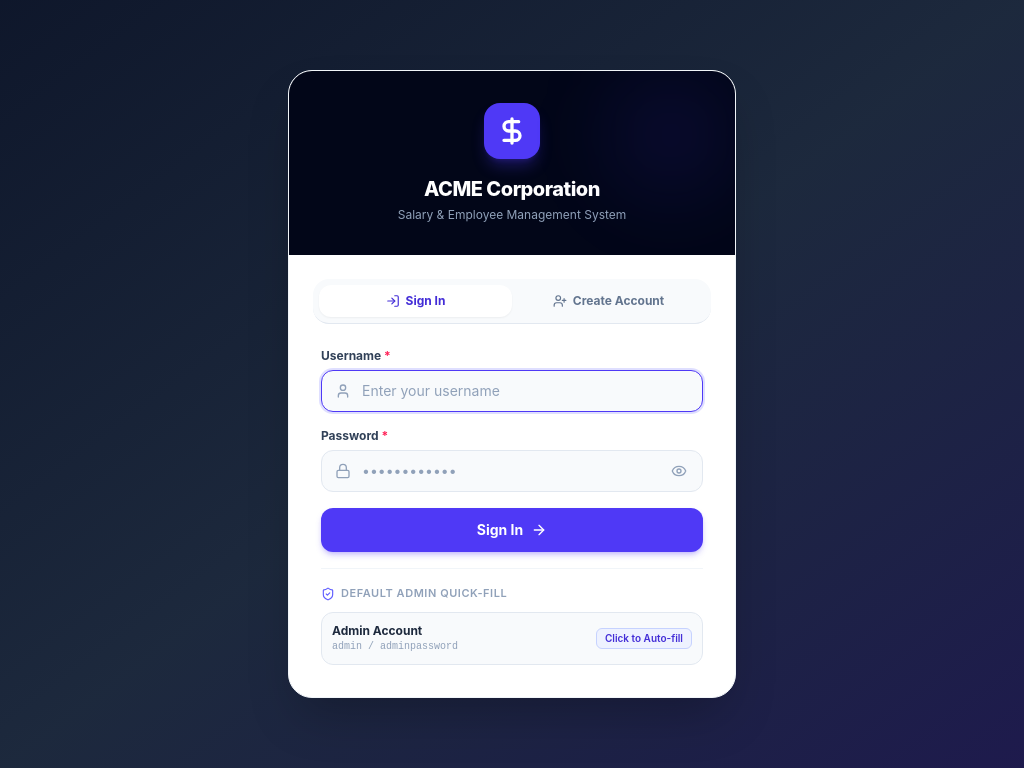
LoginPage Component & Edge Cases › should reject sign up when password is less than 6 characters
Click the button with test id "signup-tab": (608, 301) [512,285,705,317]
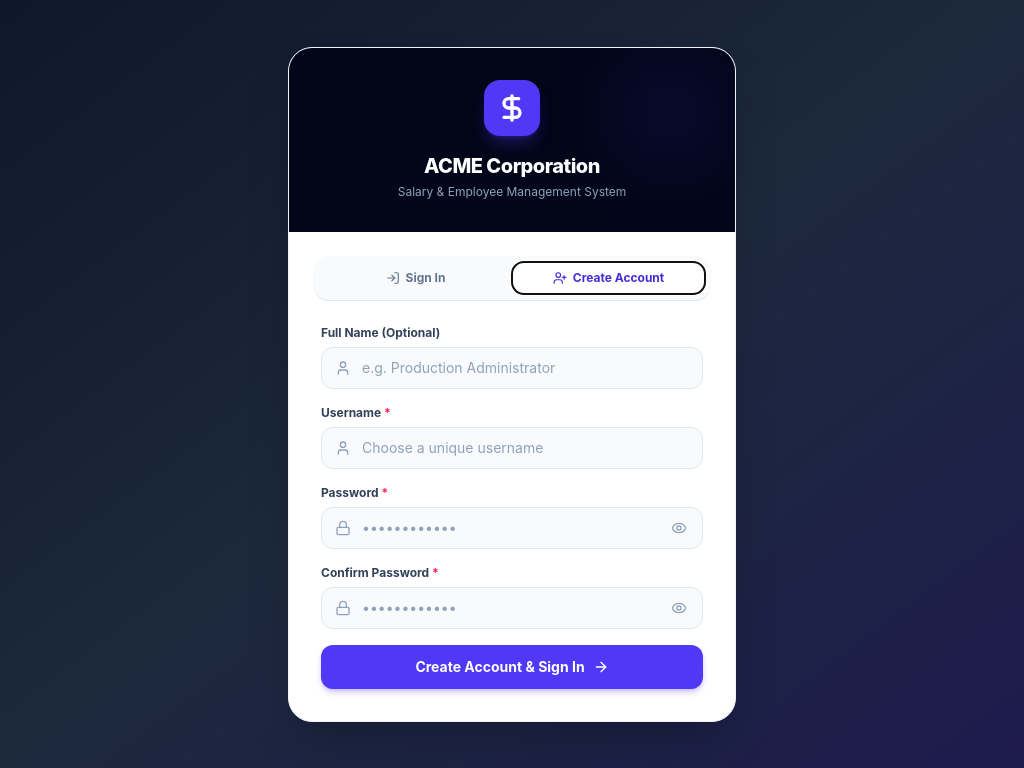
In the field with placeholder "Choose a unique username": (512, 448) [321,426,703,468], type "shortuser"
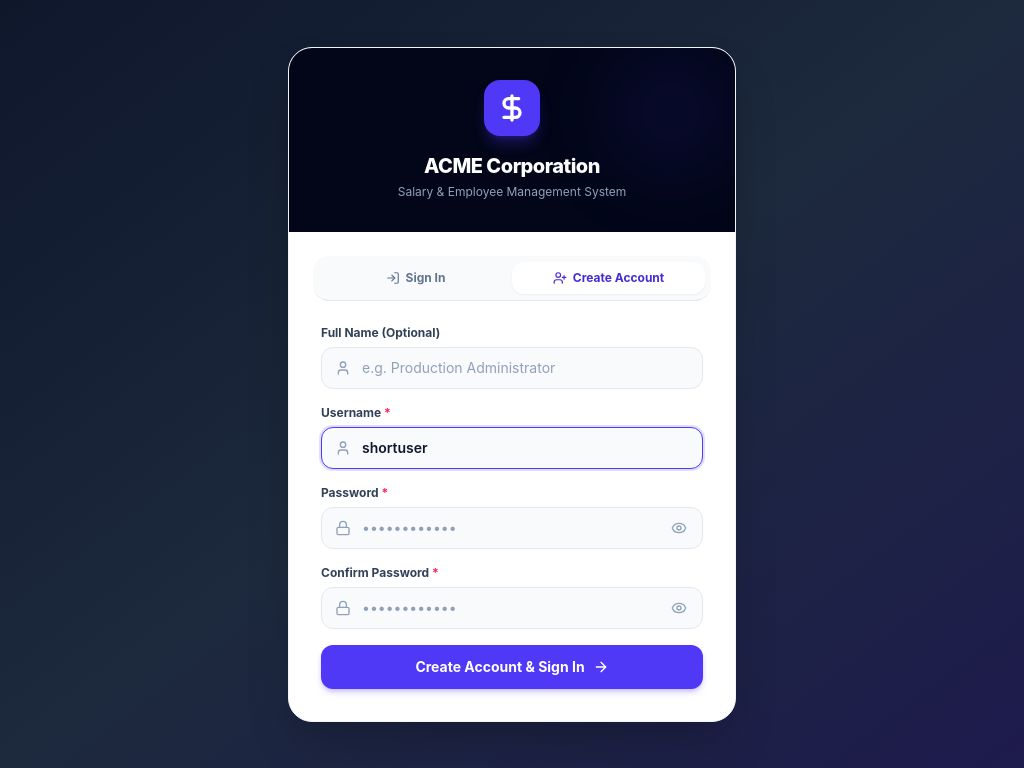
In the 1st password field with placeholder "••••••••••••": (512, 528) [321,506,703,548], type "123"
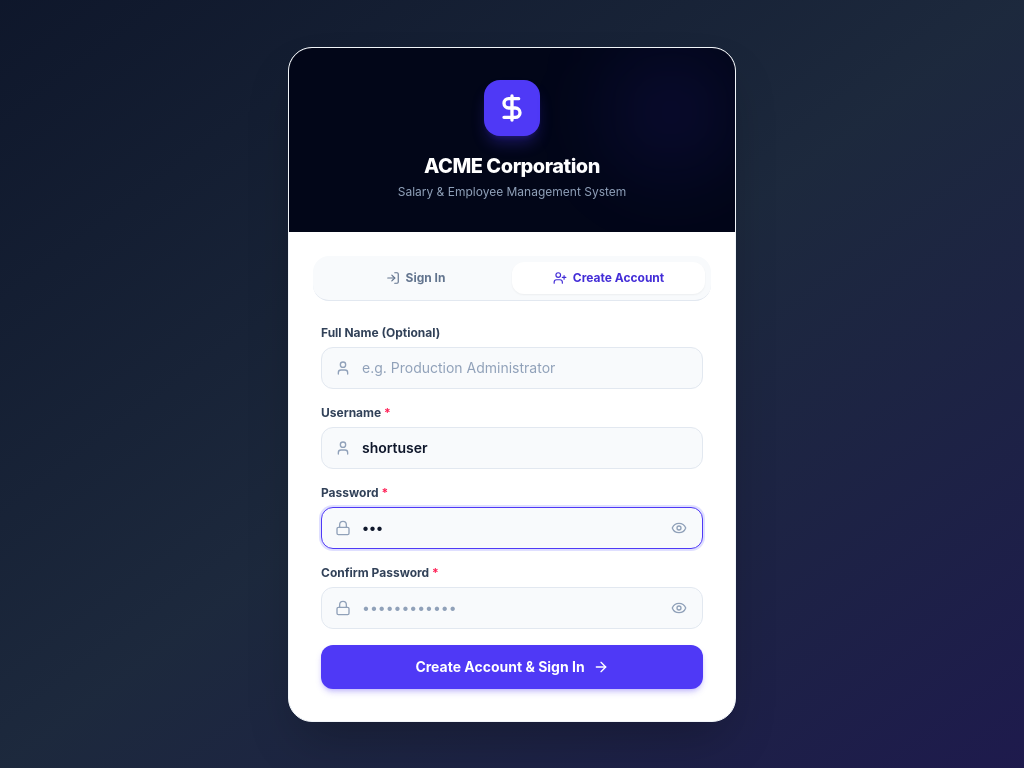
In the password field with placeholder "••••••••••••": (512, 608) [321,586,703,628], type "123"
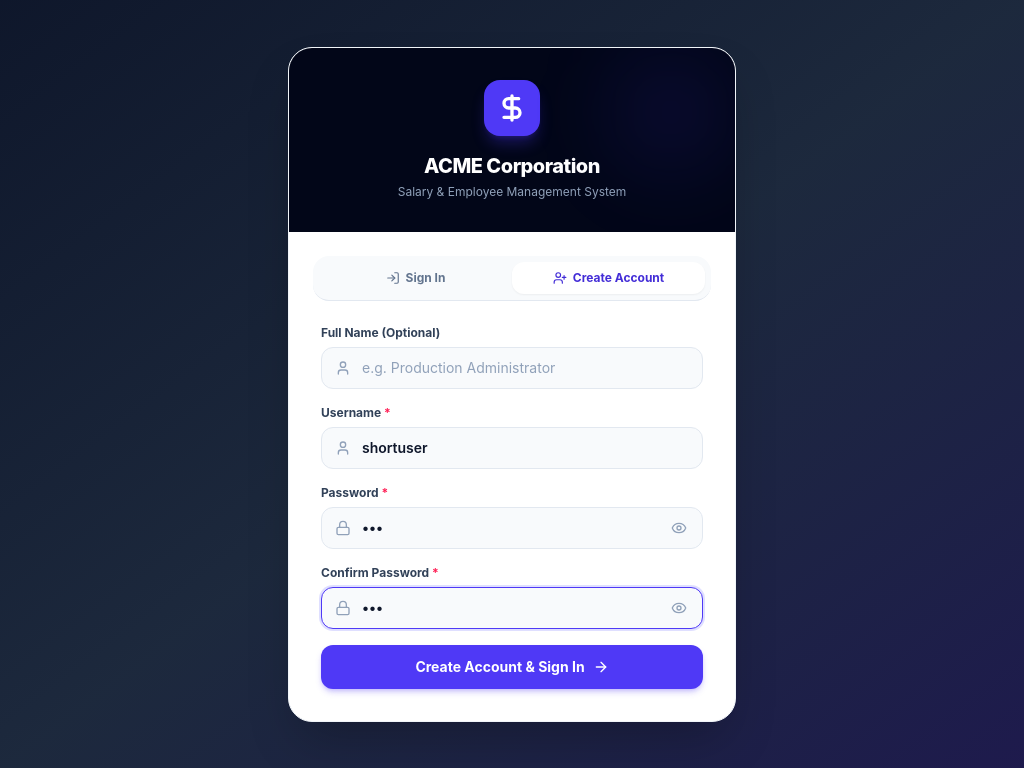
Submit the form named "Create Account & Sign In", box [289,300,735,720]
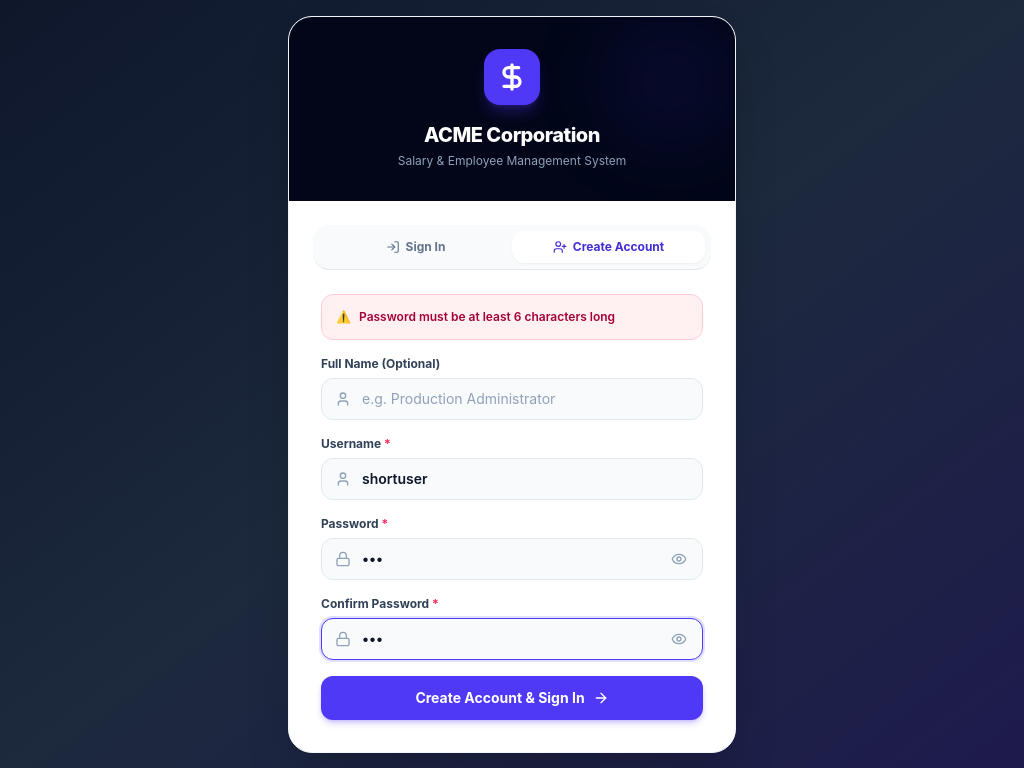
Check: the text "Password must be at least 6 characters long" is shown, box [359,309,615,325]
